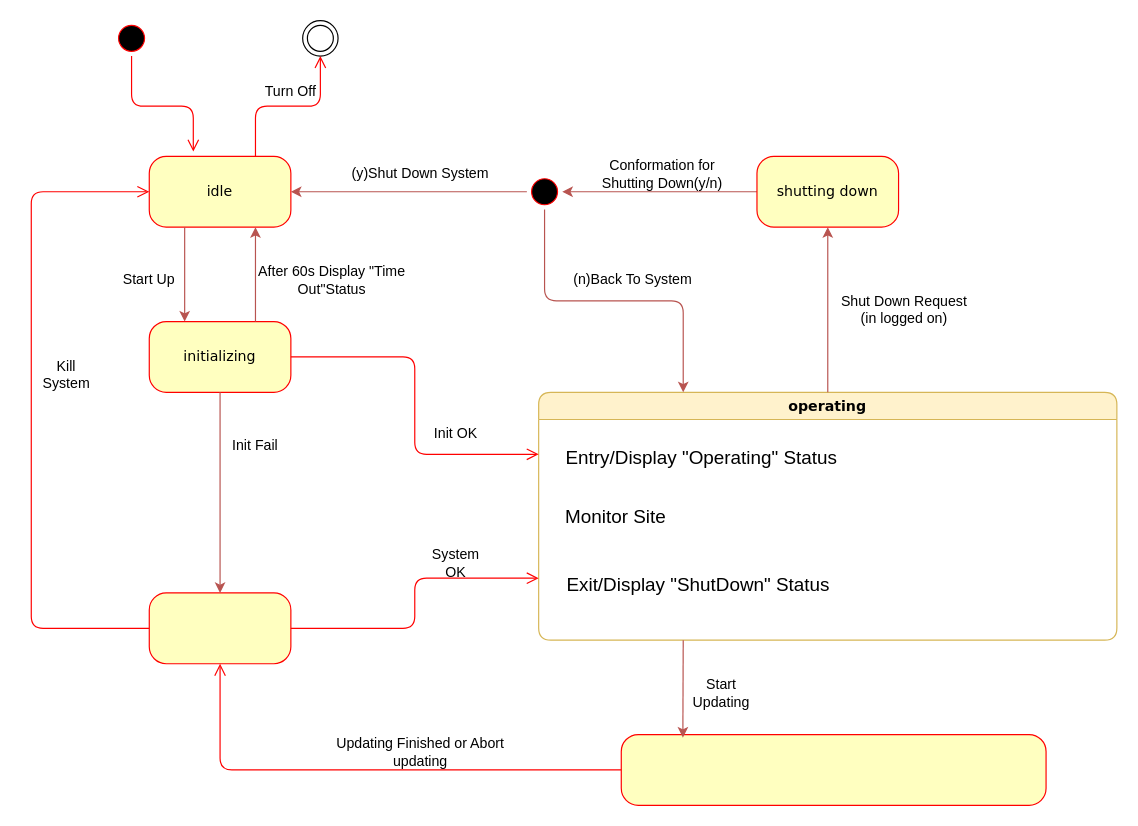
Image size: 1138x826. Some labels were removed from this diagram. Here are the shapes that lost their labels. From the top down, the box of each, then its label:
(148, 592, 291, 664): diagnosing
(620, 733, 1046, 805): updating
